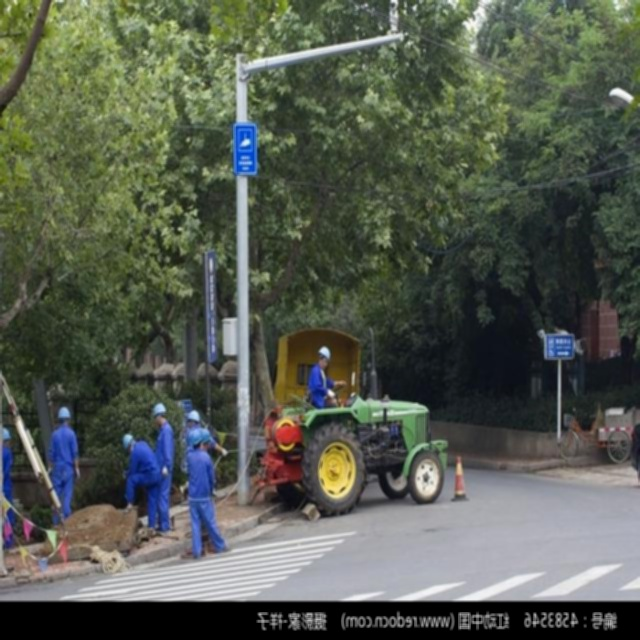Con_Casco: (318, 345, 332, 368), (151, 403, 165, 426), (56, 406, 72, 426), (121, 433, 135, 455), (185, 409, 200, 427), (0, 428, 9, 444)
